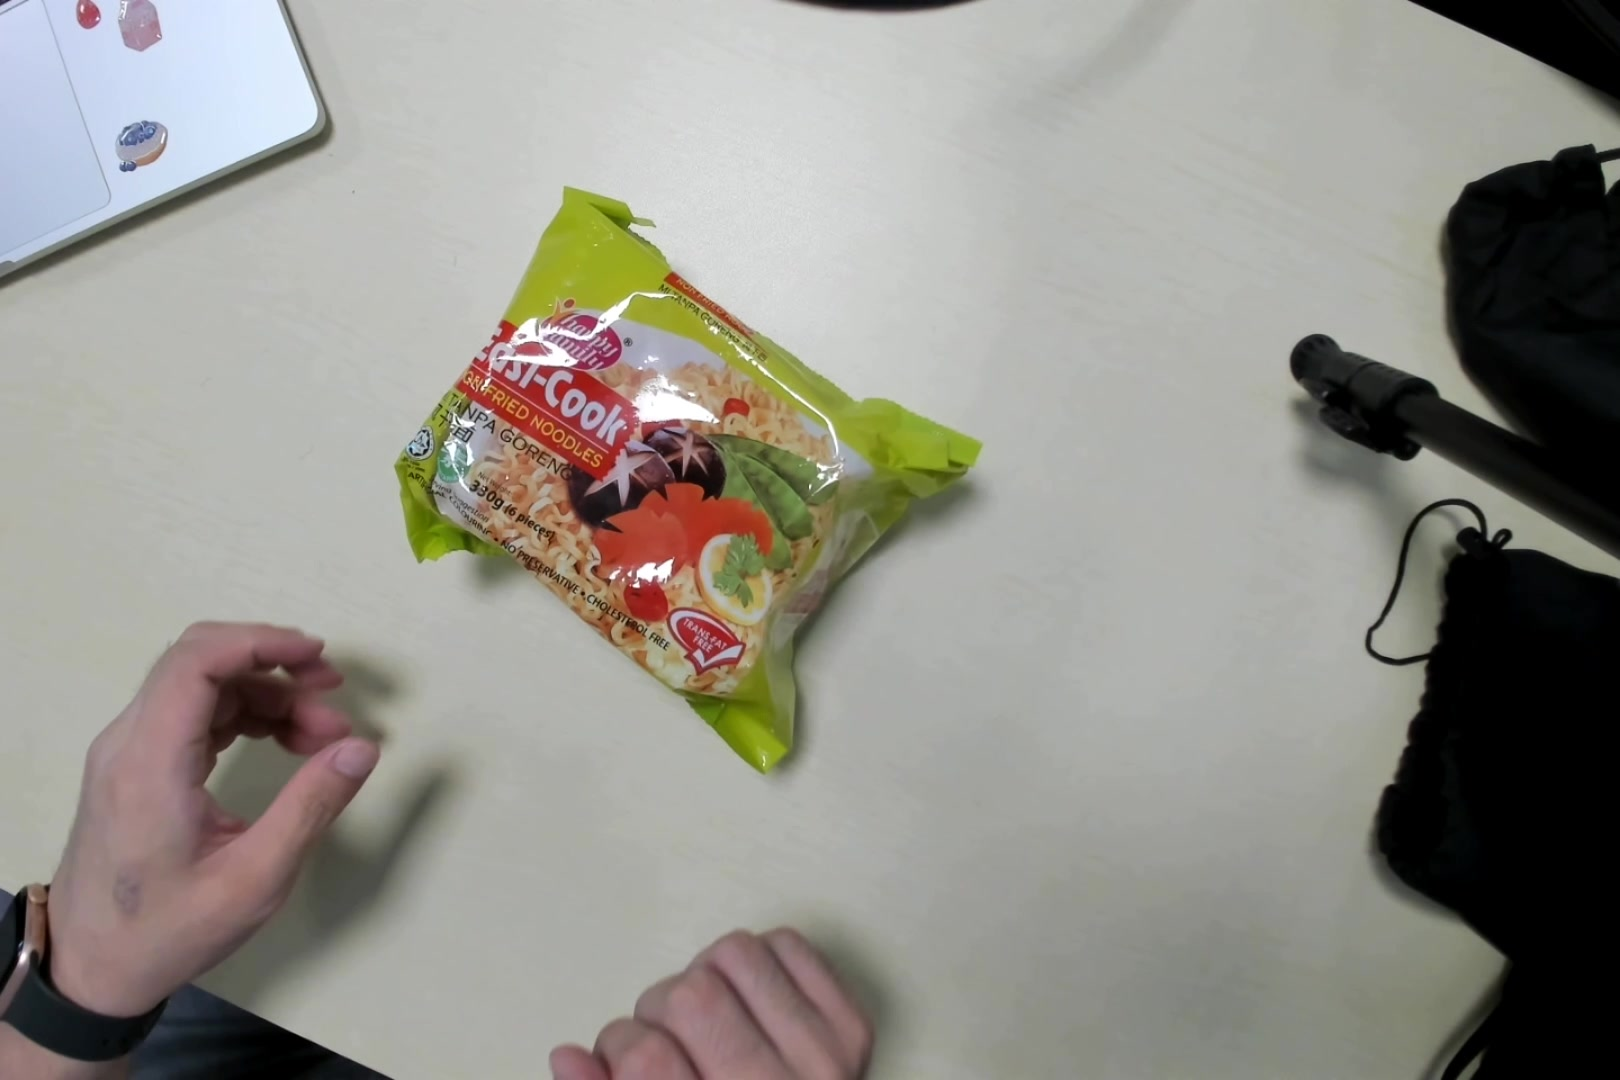OtherNoodles_300-399g_Halal_NonHealthy: (416, 212, 974, 769)
